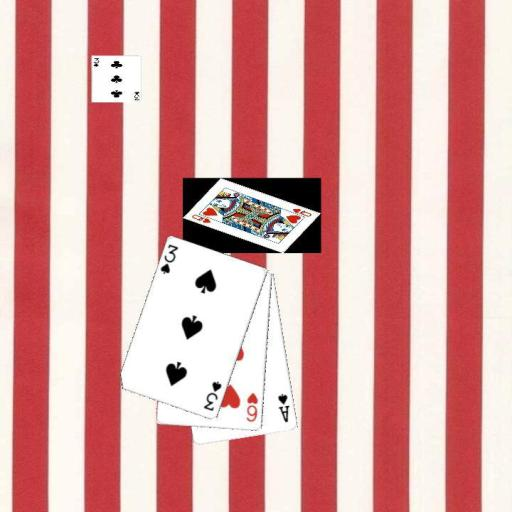3S: (157, 241, 180, 276), (201, 379, 224, 413)
6H: (243, 390, 260, 424)
AS: (275, 391, 292, 424)
